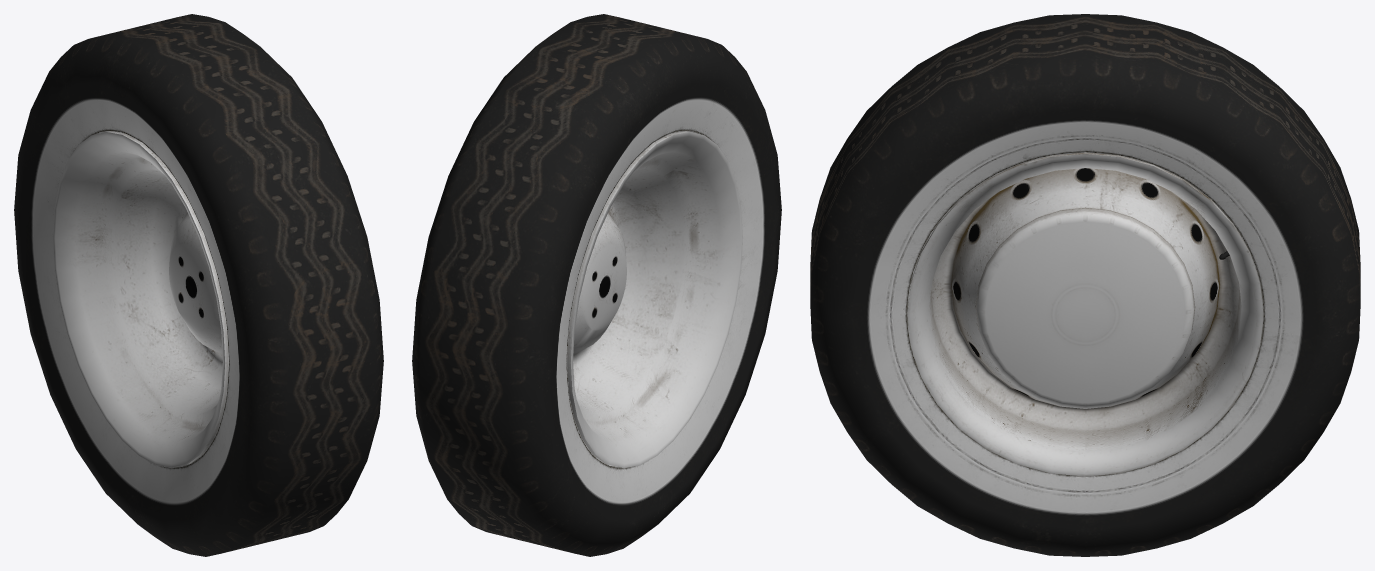
File: wheel-retro.glb
3 renders of one model, left to right at view 1: azimuth 30°, elevation 25°; view 2: azimuth 150°, elevation 25°; view 3: azimuth 270°, elevation 25°, orthographic. The views are drawn at different scales.
Visible parts, largest first — view 1: LP, pCylinder1; view 2: LP, pCylinder1; view 3: LP, pCylinder1, pCylinder2.
Boxes of the visible parts, box(x1,y1,x2,y2) form: LP: box(14, 14, 383, 556); pCylinder1: box(53, 131, 228, 468); LP: box(412, 14, 781, 556); pCylinder1: box(567, 131, 742, 468); LP: box(810, 14, 1360, 556); pCylinder1: box(907, 152, 1263, 476); pCylinder2: box(975, 207, 1195, 408).
Bounding box in the file's own units: 0.5806 × 2 × 2.
1 material, 1 textured.
